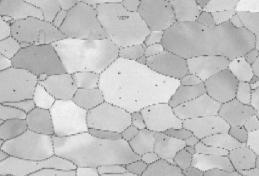good_void: (134, 98, 139, 103), (116, 70, 121, 75), (15, 31, 20, 36), (70, 80, 74, 86), (236, 58, 240, 64), (12, 87, 16, 93), (155, 83, 159, 88), (119, 95, 122, 101), (163, 137, 167, 141), (54, 44, 58, 48), (202, 27, 205, 32), (163, 80, 166, 85), (148, 109, 151, 113), (211, 126, 214, 130), (84, 66, 87, 70), (182, 104, 186, 107), (239, 126, 243, 129), (194, 15, 197, 18)
